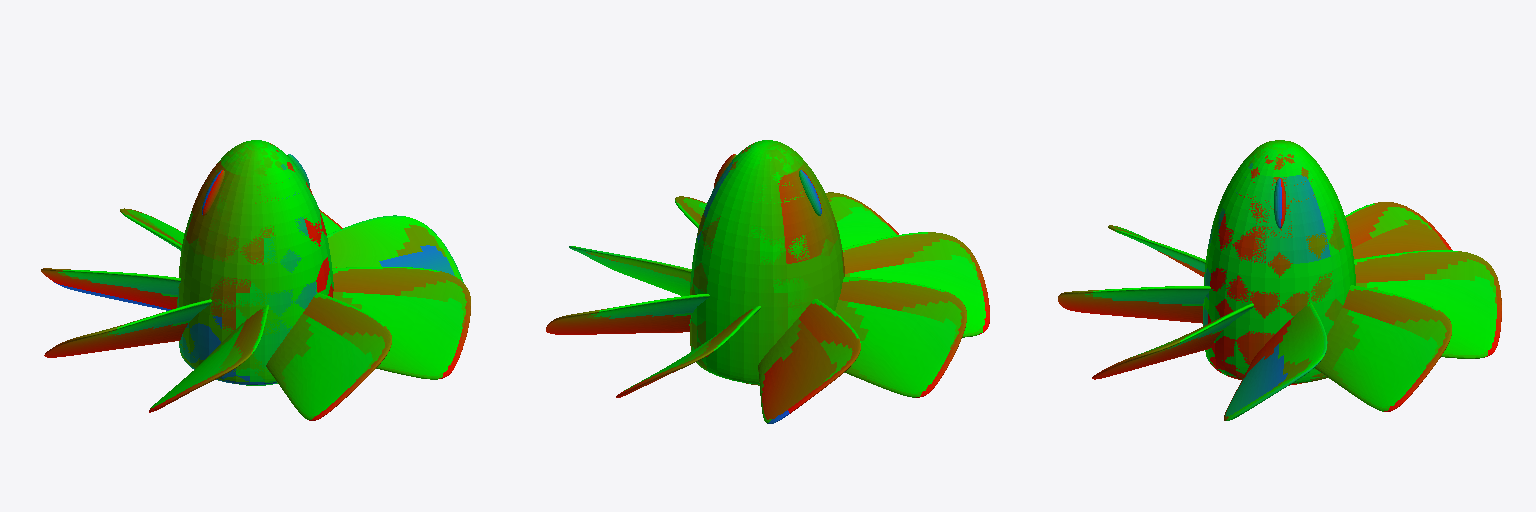
3 renders of one model, left to right at view 1: azimuth 30°, elevation 25°; view 2: azimuth 150°, elevation 25°; view 3: azimuth 270°, elevation 25°, orthographic.
Parts seen in each view (by area): view 1: subdivSphere3, group2 subdivCube3, group1 subdivCube3, polySurface1, subdivCube1 group1, group1 subdivCube2, group2 subdivCube4, group2 subdivCube2, group1 subdivCube4; view 2: subdivSphere3, group1 subdivCube2, polySurface1, group2 subdivCube4, group2 subdivCube2, subdivCube1 group2, subdivCube1 group1, group1 subdivCube3, group1 subdivCube4, group2 subdivCube3; view 3: subdivSphere3, subdivCube1 group2, group1 subdivCube4, polySurface1, subdivCube1 group1, group1 subdivCube3, group2 subdivCube4, group2 subdivCube3, group2 subdivCube2.
Boxes of the visible parts, x1=… form: subdivSphere3: x1=177, y1=140, x2=333, y2=383; group2 subdivCube3: x1=332, y1=267, x2=470, y2=379; group1 subdivCube3: x1=266, y1=293, x2=391, y2=420; polySurface1: x1=178, y1=140, x2=333, y2=384; subdivCube1 group1: x1=327, y1=215, x2=463, y2=282; group1 subdivCube2: x1=44, y1=299, x2=211, y2=357; group2 subdivCube4: x1=41, y1=268, x2=180, y2=310; group2 subdivCube2: x1=149, y1=305, x2=268, y2=412; group1 subdivCube4: x1=120, y1=208, x2=184, y2=250; subdivSphere3: x1=689, y1=140, x2=843, y2=382; group1 subdivCube2: x1=835, y1=277, x2=966, y2=397; polySurface1: x1=690, y1=140, x2=844, y2=384; group2 subdivCube4: x1=758, y1=299, x2=860, y2=423; group2 subdivCube2: x1=842, y1=232, x2=989, y2=337; subdivCube1 group2: x1=546, y1=294, x2=709, y2=334; subdivCube1 group1: x1=569, y1=246, x2=691, y2=295; group1 subdivCube3: x1=826, y1=192, x2=898, y2=247; group1 subdivCube4: x1=616, y1=306, x2=760, y2=397; group2 subdivCube3: x1=675, y1=196, x2=706, y2=228; subdivSphere3: x1=1203, y1=140, x2=1355, y2=383; subdivCube1 group2: x1=1315, y1=285, x2=1451, y2=411; group1 subdivCube4: x1=1354, y1=250, x2=1501, y2=358; polySurface1: x1=1203, y1=140, x2=1355, y2=383; subdivCube1 group1: x1=1224, y1=303, x2=1327, y2=420; group1 subdivCube3: x1=1058, y1=286, x2=1210, y2=323; group2 subdivCube4: x1=1345, y1=202, x2=1451, y2=258; group2 subdivCube3: x1=1092, y1=303, x2=1253, y2=379; group2 subdivCube2: x1=1108, y1=225, x2=1205, y2=276.
Bounding box in the file's own units: 22.93 × 12.75 × 22.93.
1 materials, 1 textured.